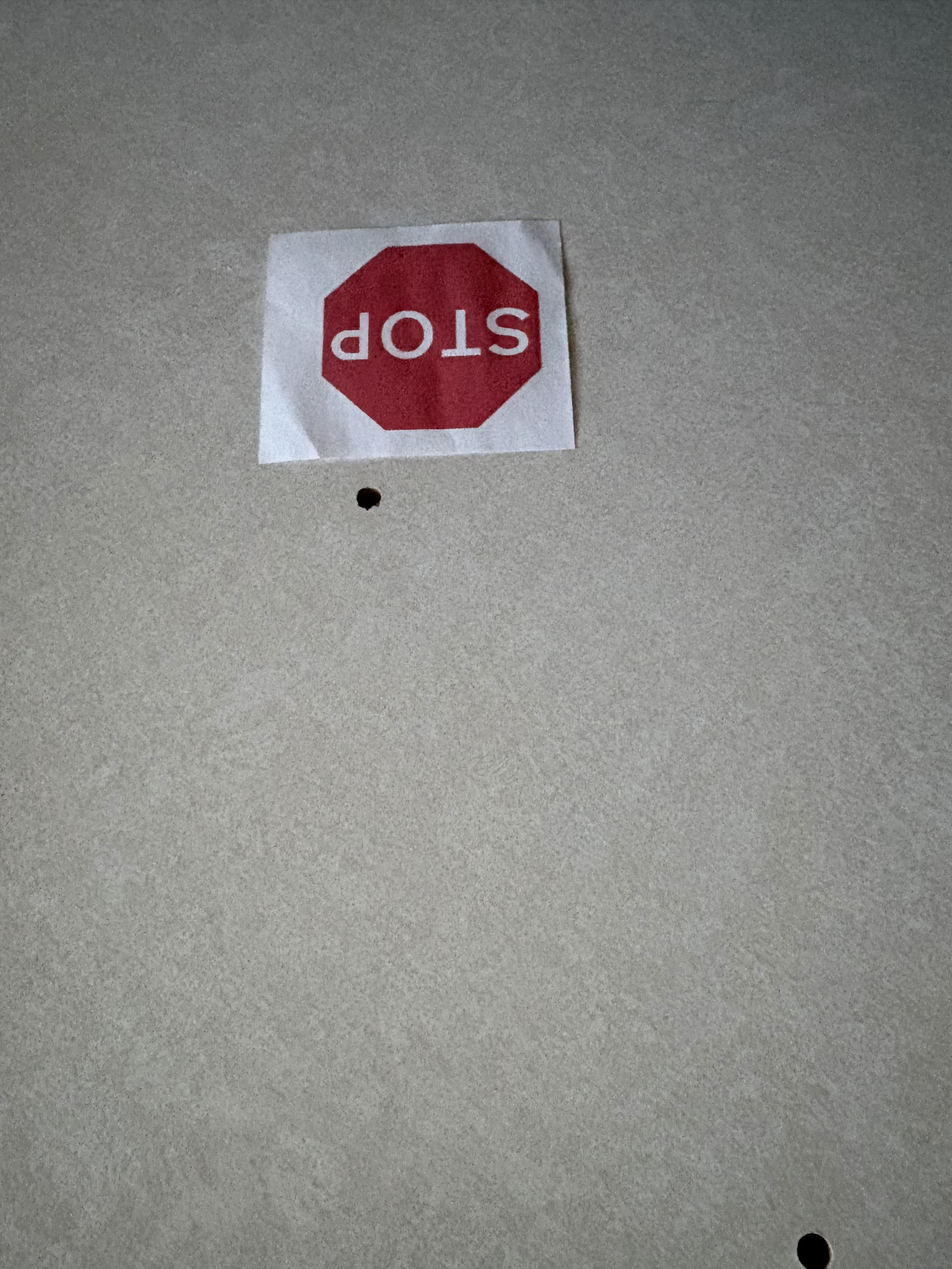Stop: (259, 214, 579, 479)
